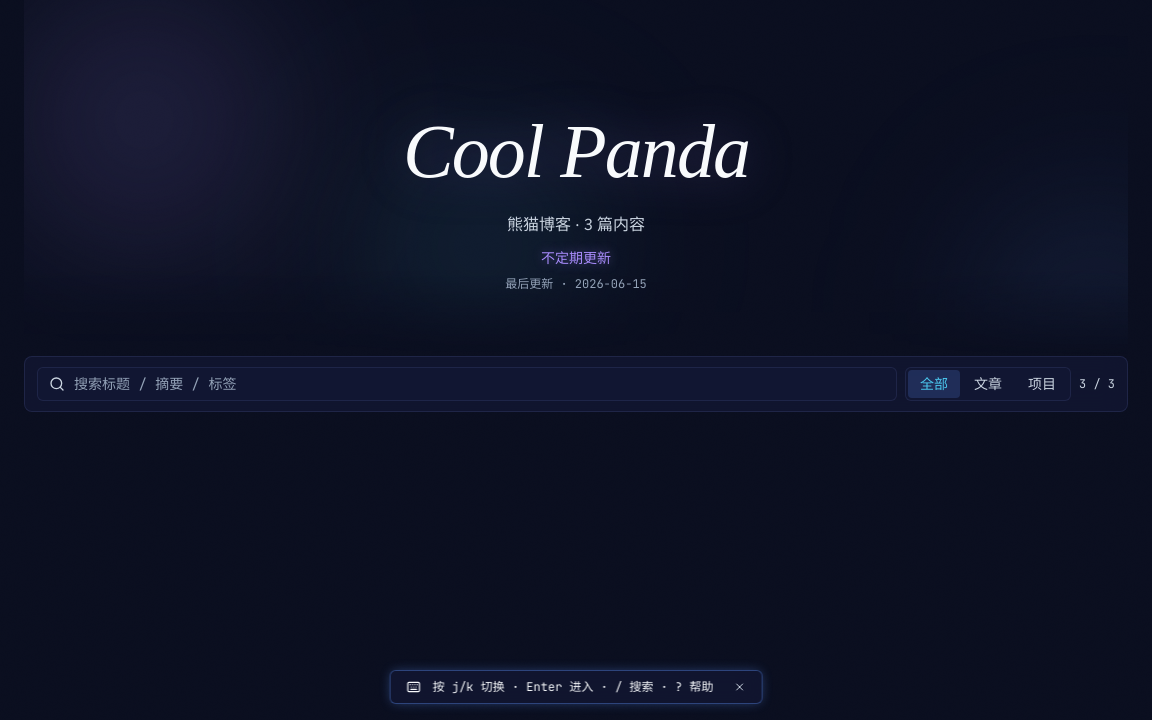
Scenario: Home 搜索过滤（与分类正交） › 搜索不存在的字串显示空状态「没有匹配的内容」
The image size is (1152, 720).
Type "xyz不存在" into the search field with placeholder "搜索标题 / 摘要 / 标签".
click(467, 384); type("xyz不存在")  # box [37,367,897,401]
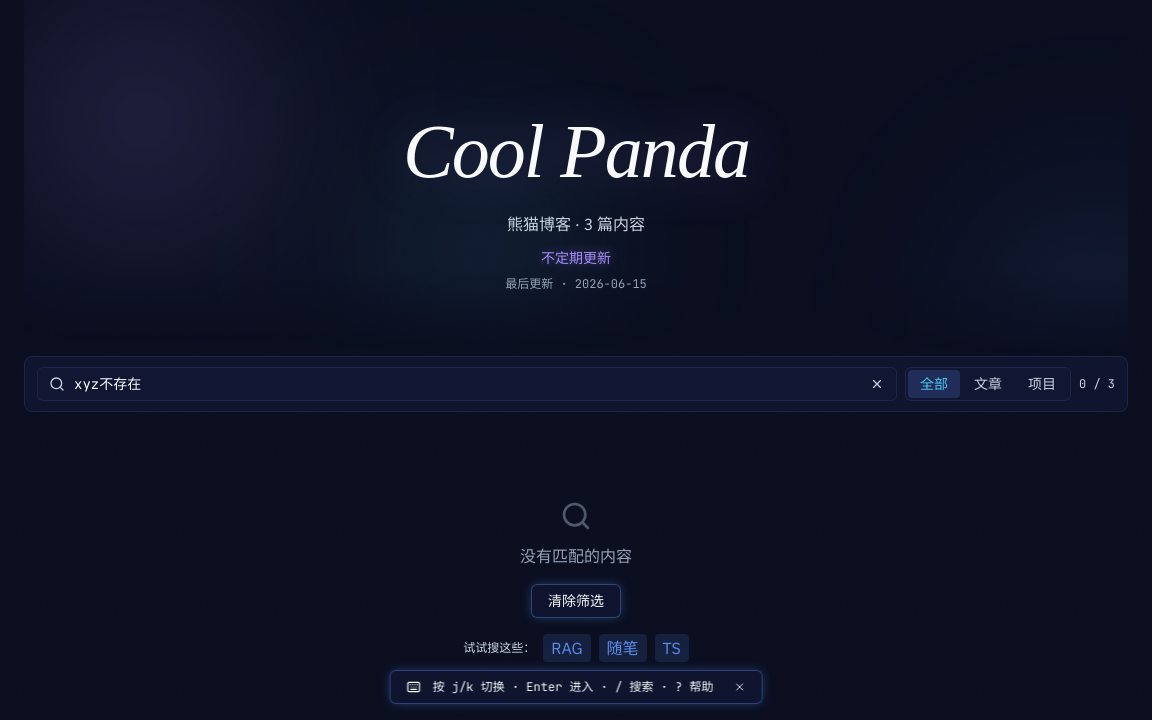
Expected: the text "没有匹配的内容" is shown, [520,546,632,566]
